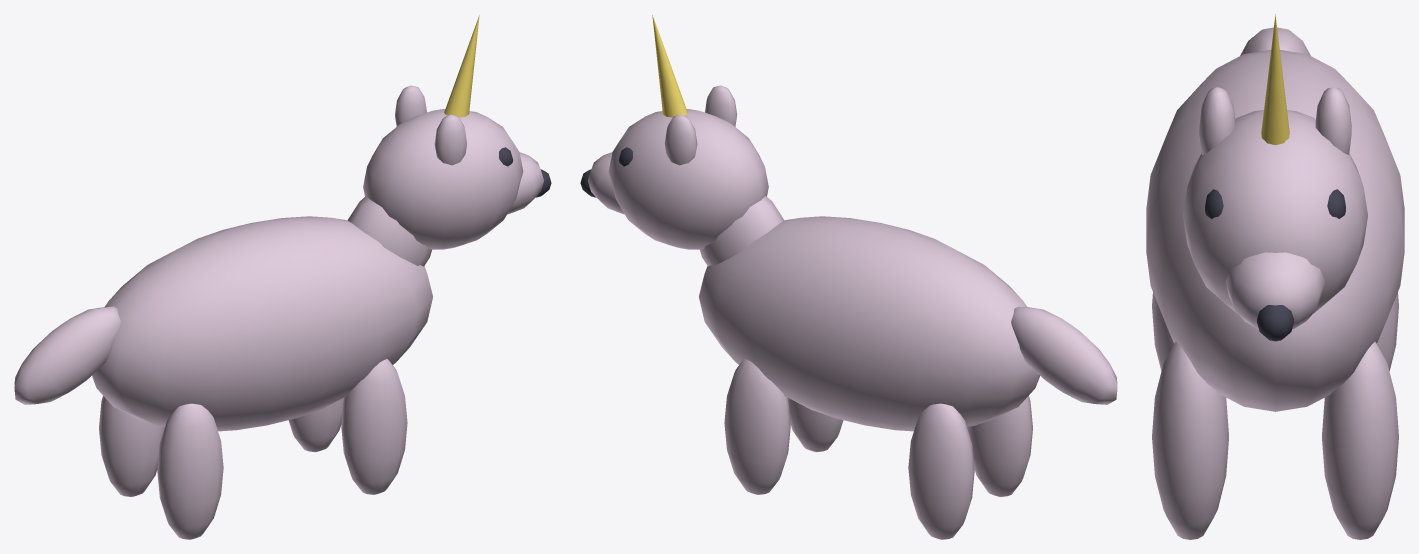
Rendered from unicorn.glb.
3 renders of one model, left to right at view 1: azimuth 30°, elevation 25°; view 2: azimuth 150°, elevation 25°; view 3: azimuth 270°, elevation 25°, orthographic. The views are drawn at different scales.
Visible parts, largest first — view 1: Body, Head, LegBackLeft, LegFrontLeft, Tail, LegBackRight, Neck, LegFrontRight, Horn, EarLeft, Snout, EarRight; view 2: Body, Head, LegBackRight, LegFrontRight, Tail, LegBackLeft, Neck, LegFrontLeft, Horn, EarRight, Snout, EarLeft; view 3: Body, Head, LegFrontLeft, LegFrontRight, Snout, Horn, EarLeft, EarRight, Tail, Nose, LegBackLeft, LegBackRight (+2 smaller).
Part boxes in pixels (box(x1,y1,x2,y2)): Body: box(92, 216, 432, 431); Head: box(363, 109, 523, 249); LegBackLeft: box(157, 403, 223, 539); LegFrontLeft: box(341, 359, 407, 494); Tail: box(14, 306, 120, 404); LegBackRight: box(99, 396, 164, 497); Neck: box(347, 196, 432, 266); LegFrontRight: box(288, 398, 343, 452); Horn: box(444, 15, 479, 117); EarLeft: box(434, 114, 467, 165); Snout: box(507, 152, 543, 214); EarRight: box(395, 85, 426, 126); Body: box(699, 216, 1039, 431); Head: box(608, 109, 768, 249); LegBackRight: box(908, 403, 974, 539); LegFrontRight: box(724, 359, 790, 494); Tail: box(1011, 306, 1117, 404); LegBackLeft: box(967, 396, 1032, 497); Neck: box(699, 196, 784, 266); LegFrontLeft: box(788, 398, 843, 452); Horn: box(652, 15, 687, 117); EarRight: box(664, 114, 697, 165); Snout: box(588, 152, 624, 214); EarLeft: box(705, 85, 736, 126); Body: box(1146, 50, 1404, 411); Head: box(1183, 110, 1367, 313); LegFrontLeft: box(1152, 342, 1228, 539); LegFrontRight: box(1322, 342, 1398, 539); Snout: box(1226, 252, 1324, 329); Horn: box(1261, 14, 1289, 145); EarLeft: box(1199, 87, 1235, 154); EarRight: box(1315, 87, 1351, 154); Tail: box(1240, 27, 1310, 55); Nose: box(1257, 305, 1293, 341); LegBackLeft: box(1152, 292, 1173, 370); LegBackRight: box(1377, 292, 1398, 370).
Bounding box in the file's own units: 2.1 × 1.6 × 0.6027.
